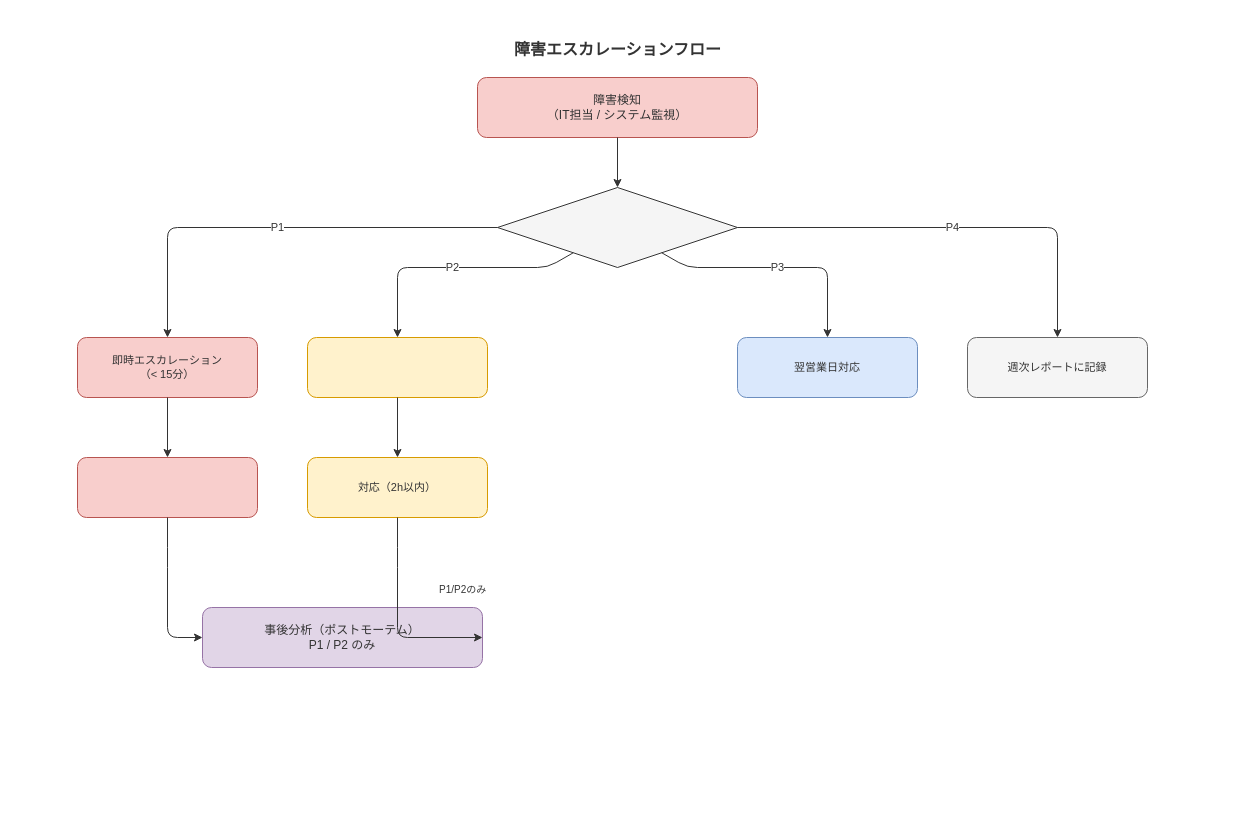
The diagram is 1234 pixels wide and 834 high, and some of its shapes have lost their labels. Each missing label, with the centre of its shape:
30分以内 エスカレーション: (x=397, y=367)
優先度分類 P1 / P2 / P3 / P4: (x=617, y=227)
緊急対応 （RTO 1h）: (x=167, y=487)
